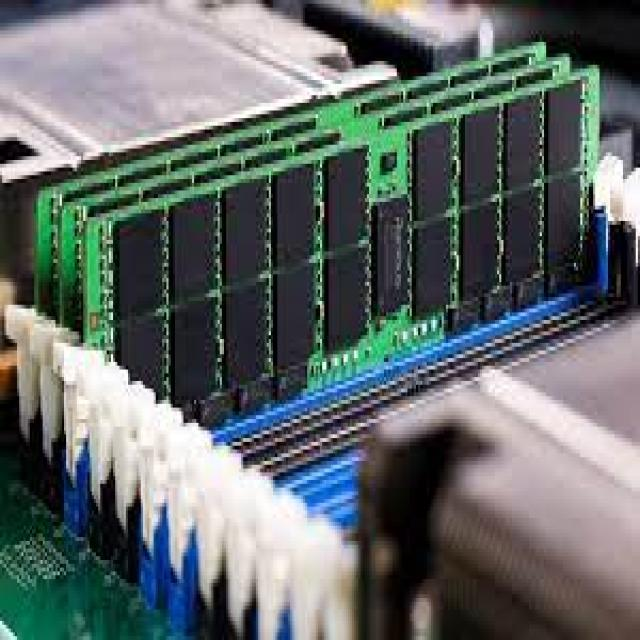Ram: (36, 55, 597, 541)
